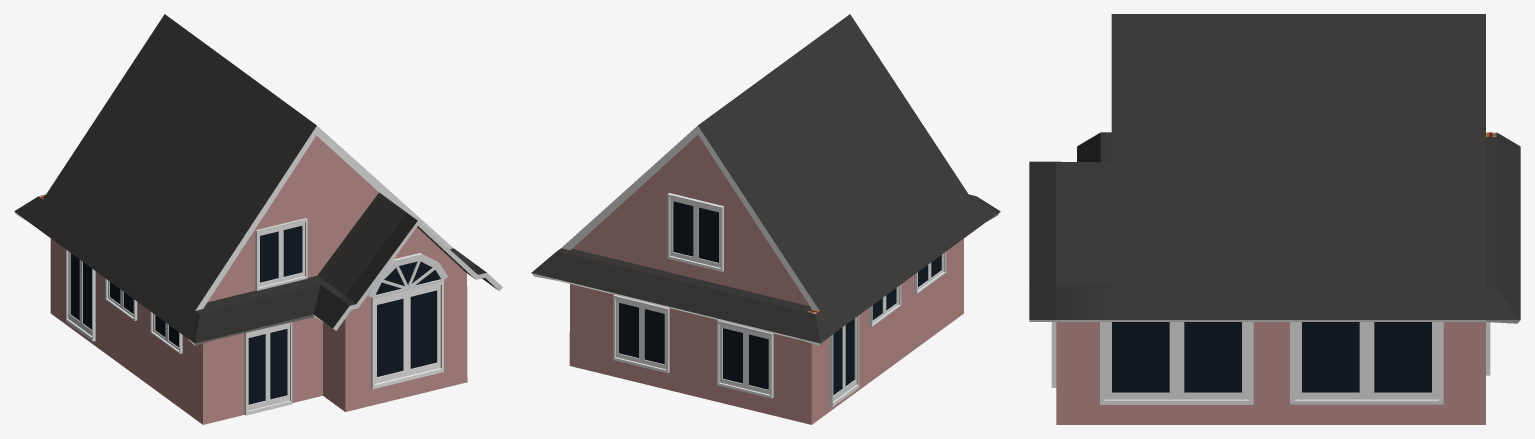
File: Maison 1.fbx
3 views of the same model, side by side, from view 1: azimuth 30°, elevation 25°; view 2: azimuth 150°, elevation 25°; view 3: azimuth 270°, elevation 25° (orthographic). The views are drawn at different scales.
Parts seen in each view (by area): view 1: Maison1; view 2: Maison1; view 3: Maison1.
Part boxes in pixels (bbox=[...]): Maison1: bbox=[14, 14, 502, 424]; Maison1: bbox=[531, 14, 1000, 424]; Maison1: bbox=[1029, 14, 1520, 424].
Bounding box in the file's own units: 223 × 266 × 200.
